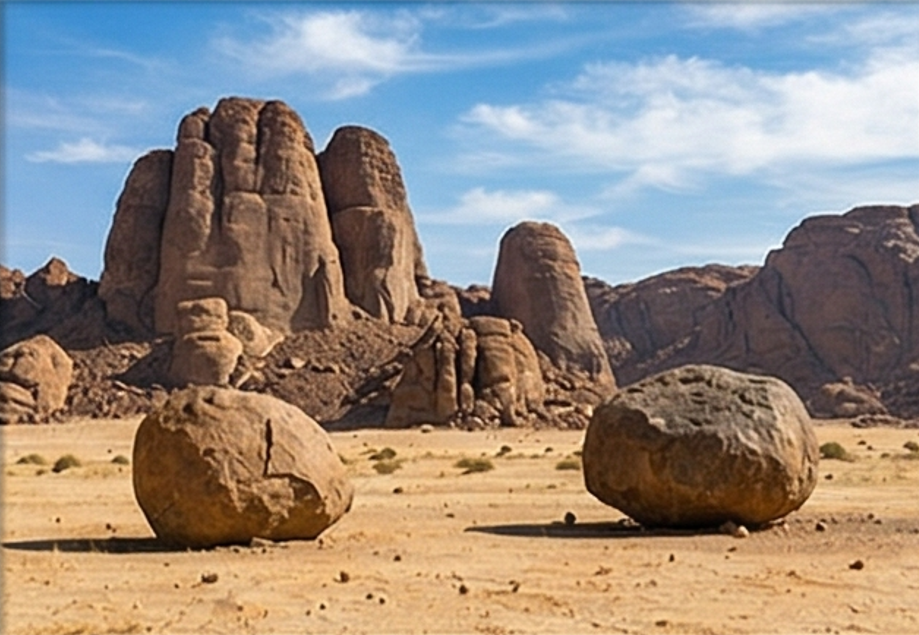rocks: (585, 365, 820, 526), (133, 386, 351, 546)
